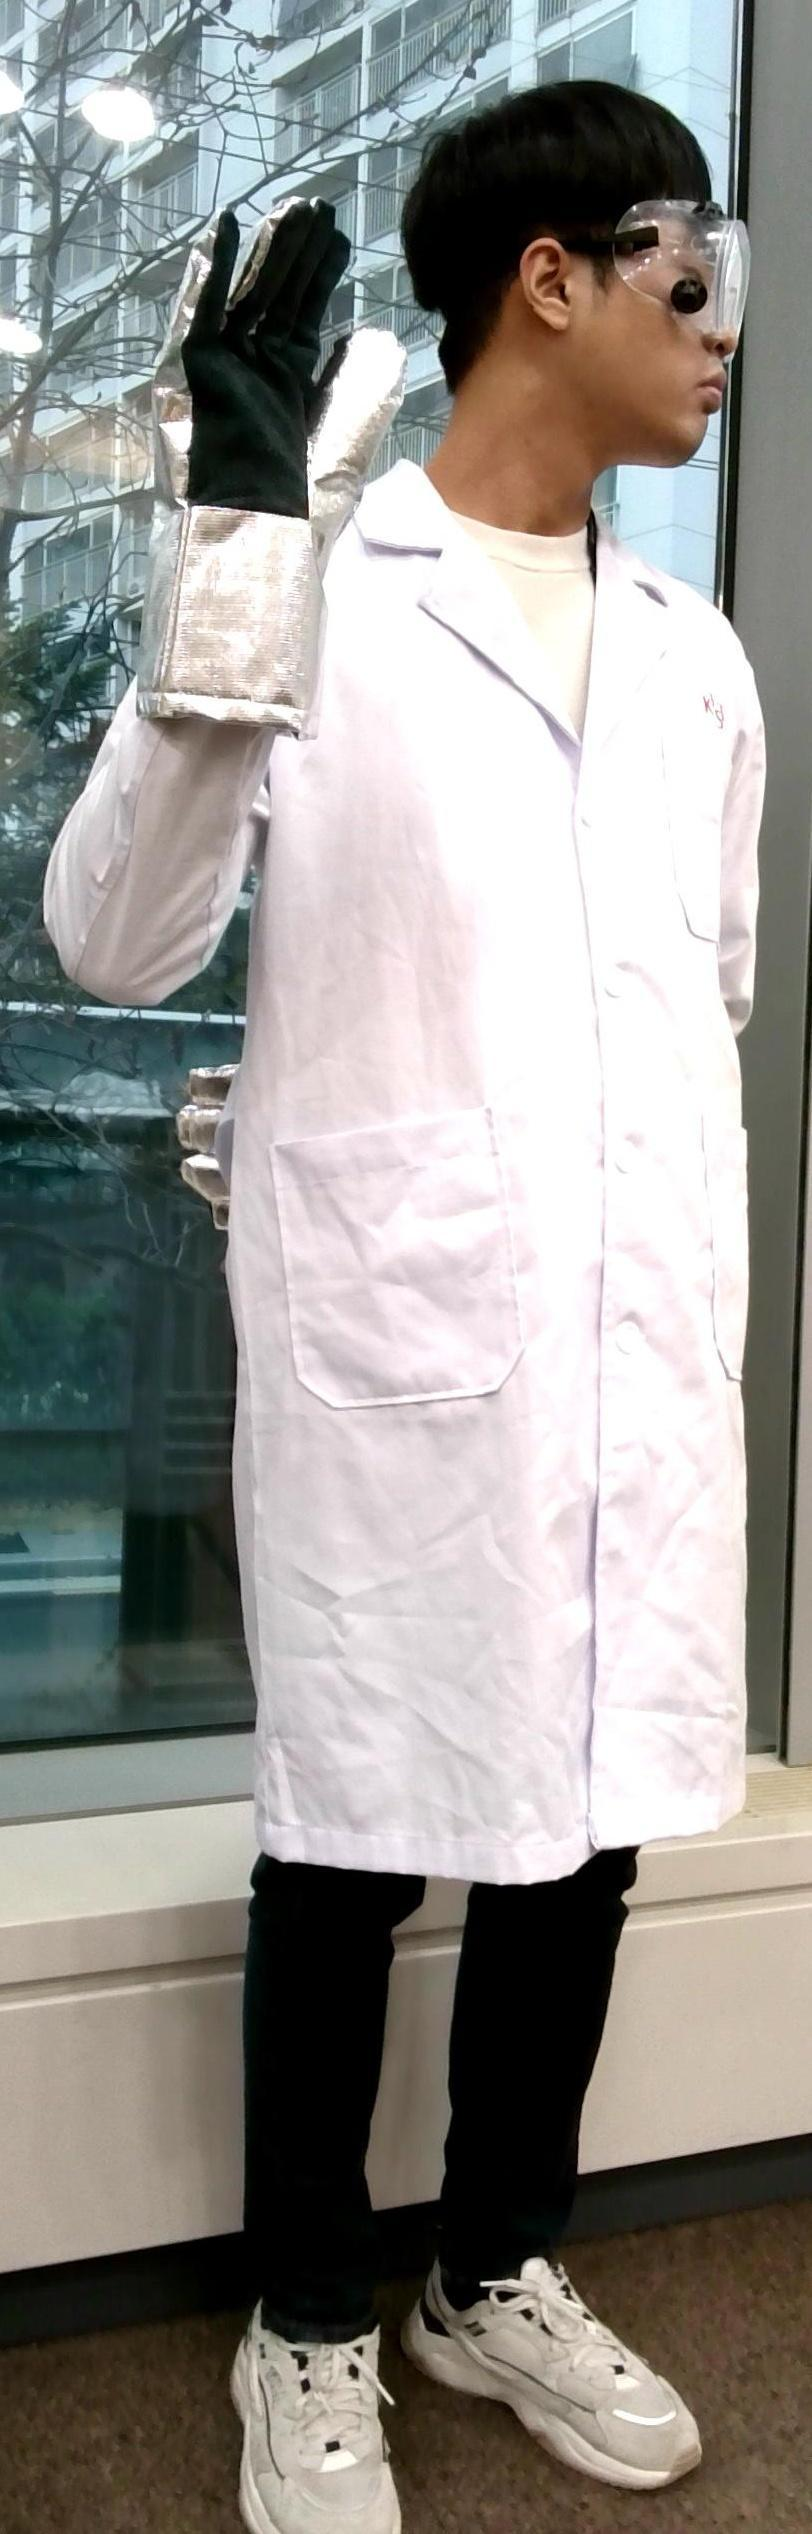lab_coat: (131, 556, 796, 1837)
